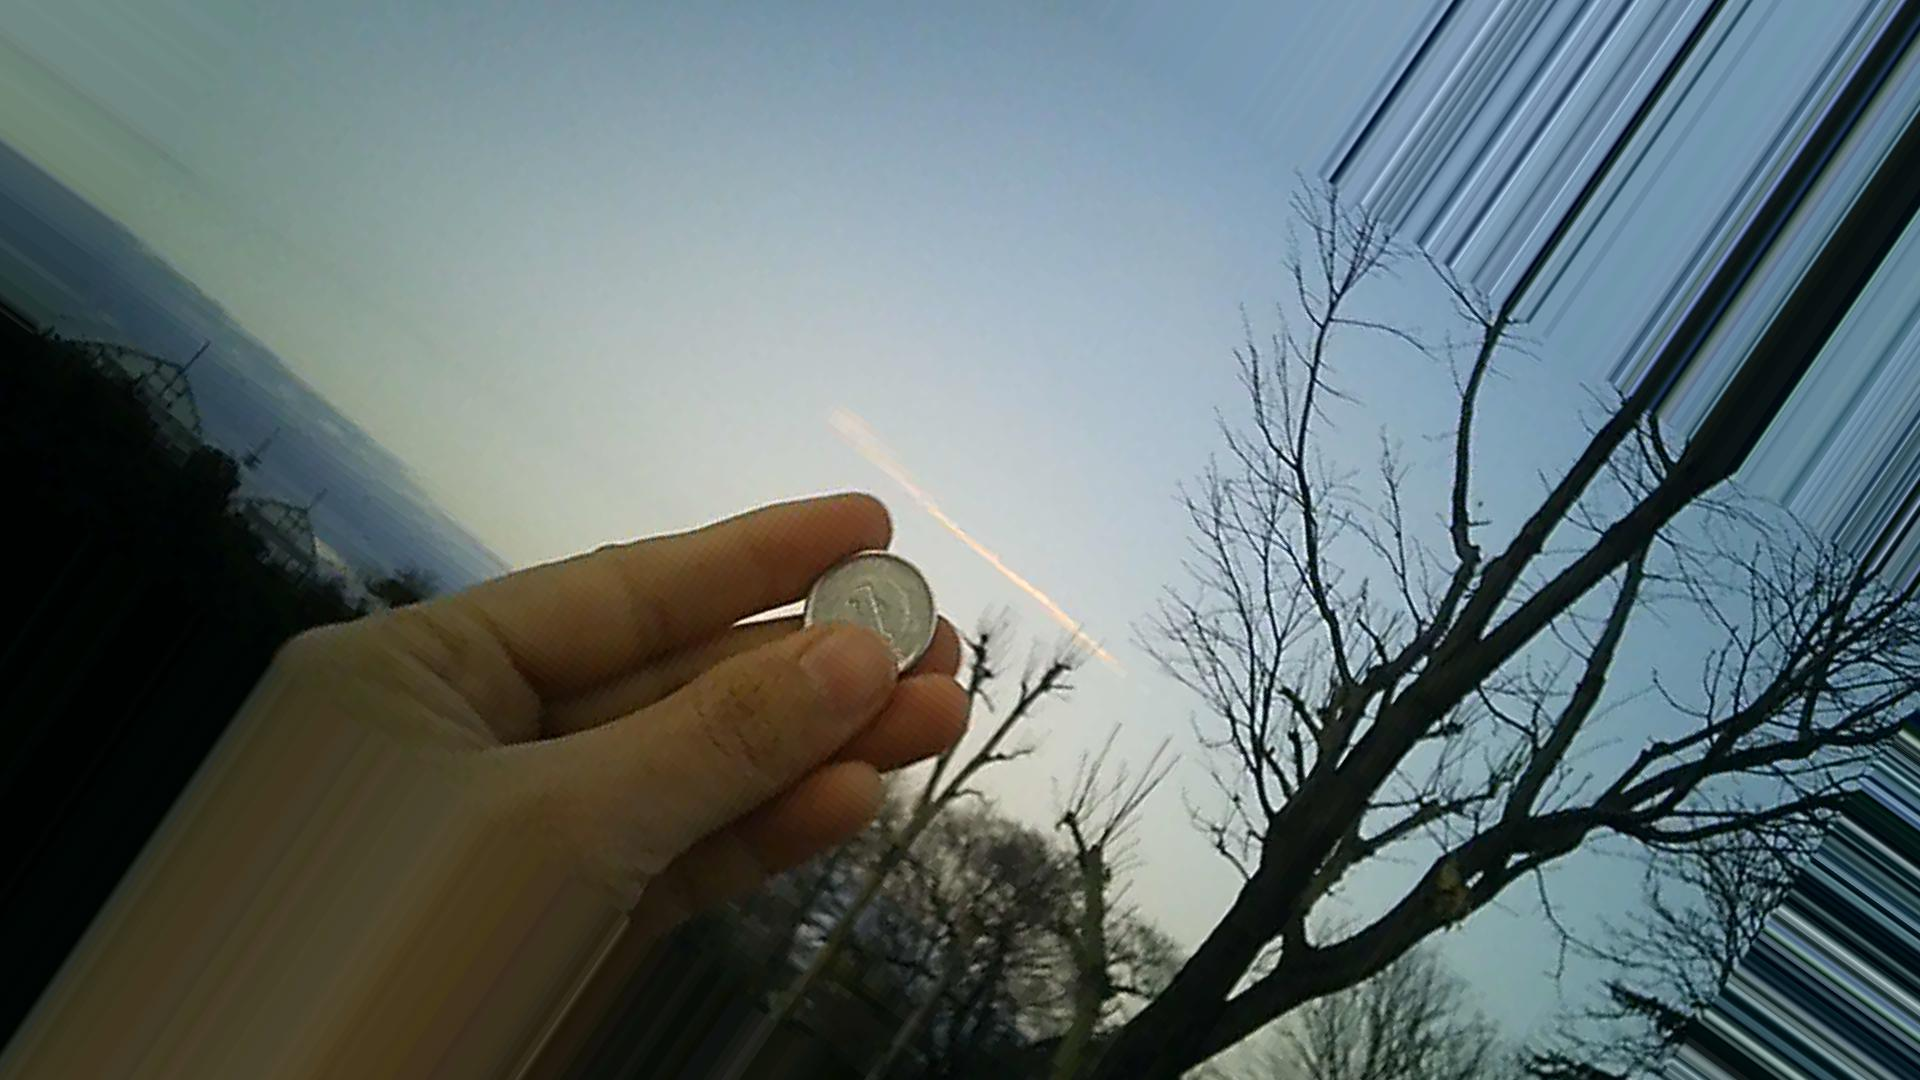1 Yen: (796, 549, 943, 686)
